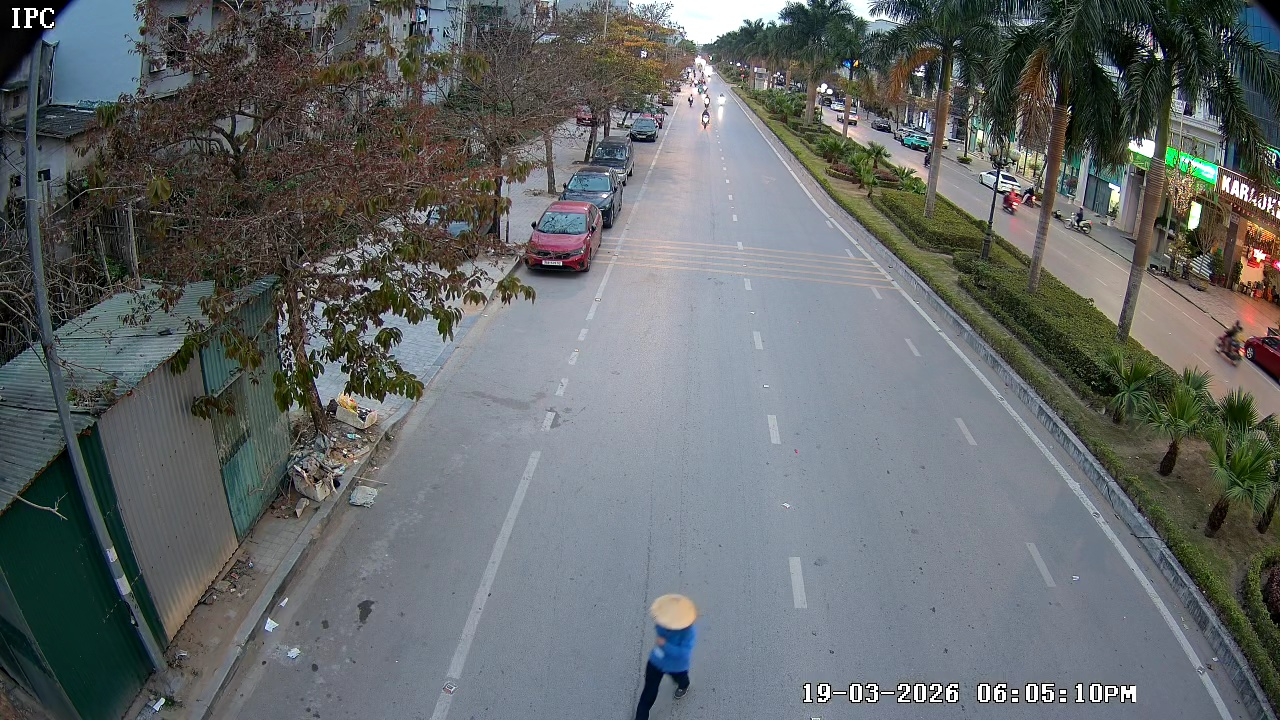car: (524, 201, 601, 276), (561, 169, 623, 229), (626, 115, 661, 145)
motorbike: (698, 107, 713, 133)
